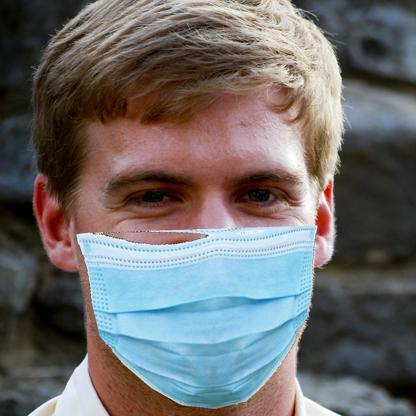mask: (75, 228, 316, 409)
